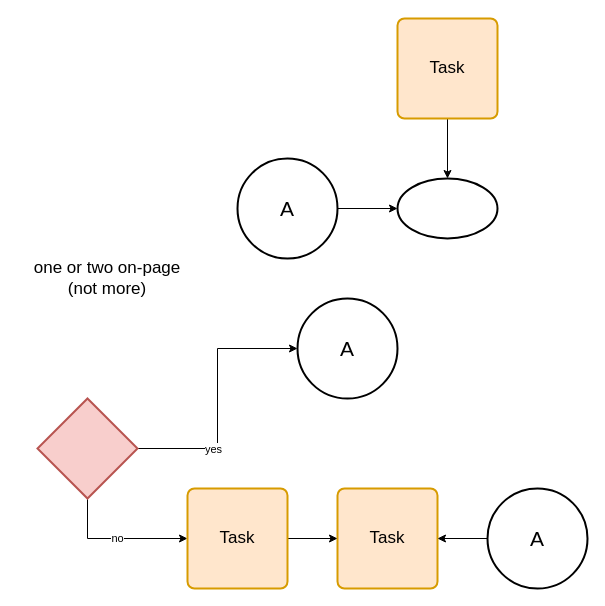
Image size: 605x606. Some labels were removed from this diagram. Each missing label, with the centre of its shape:
Decision: the point at 87,448
End: the point at 447,208
